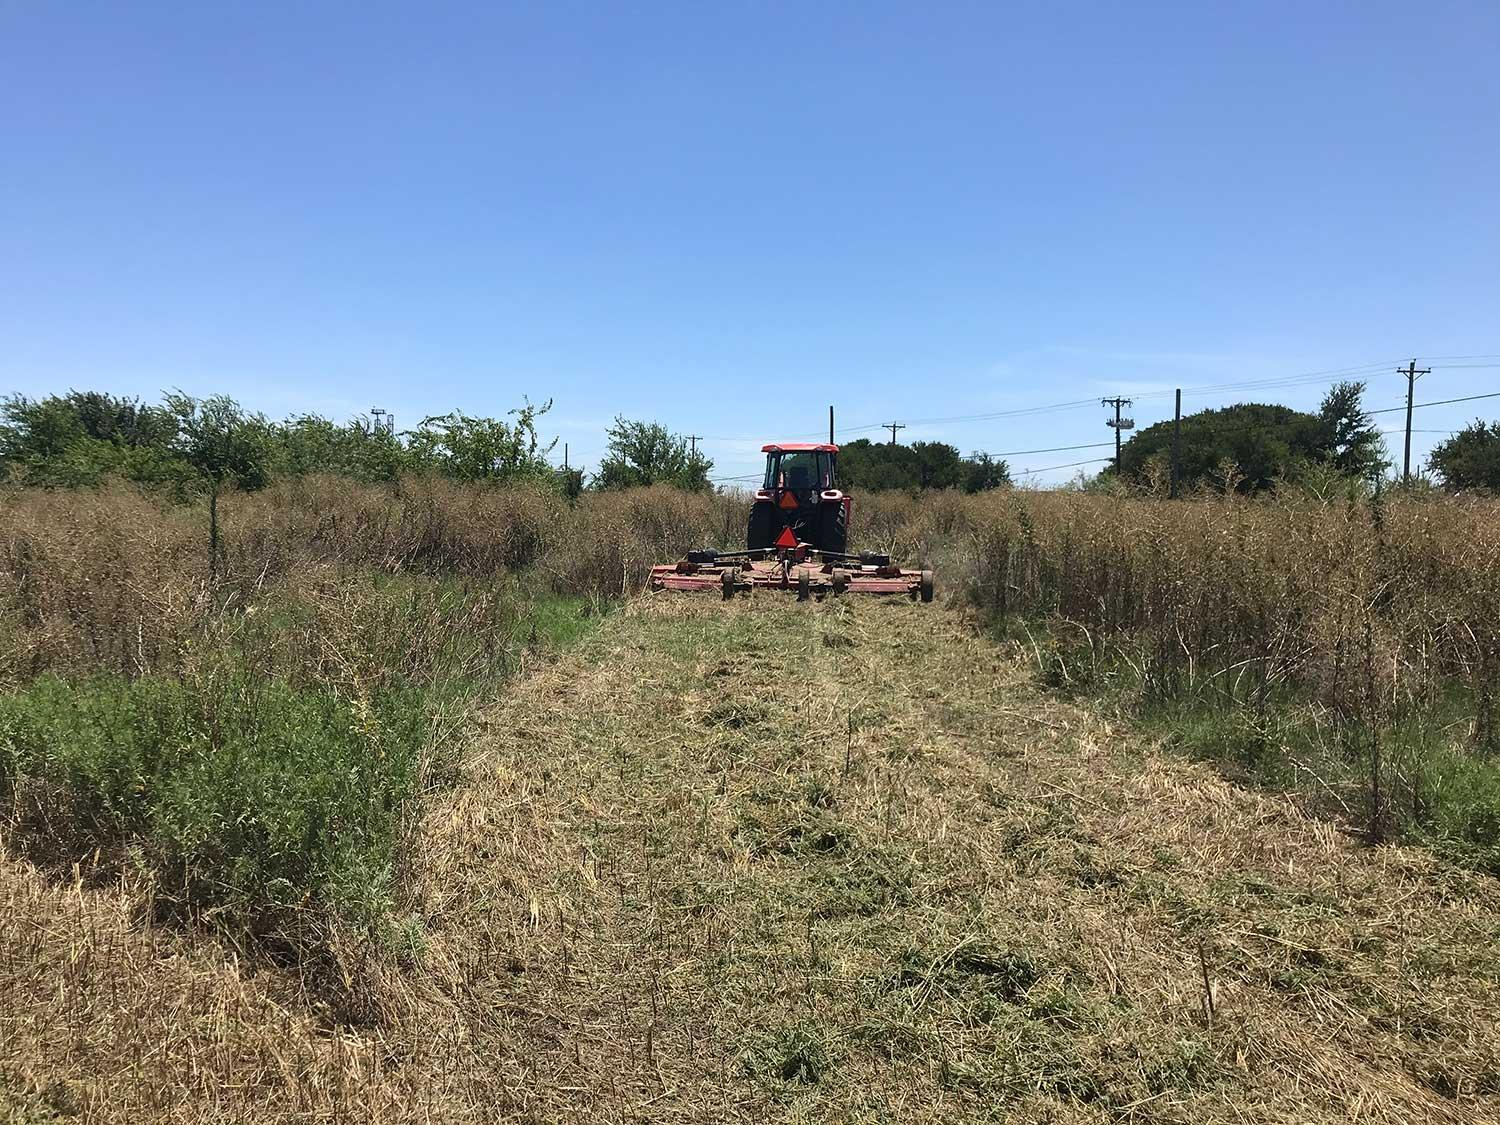overgrown grass: (0, 477, 730, 1124), (974, 494, 1499, 749), (854, 486, 1022, 568)
